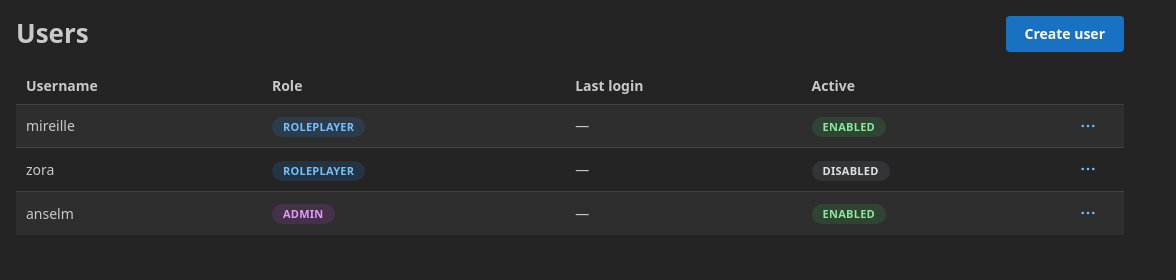
it: both actions on every row › mireille's menu offers Set Password and Change Role, neither disabled — DoD-8 (D1)
Click the submit button at (1088, 126), box top-left (1074, 112), bottom-right (1102, 140)
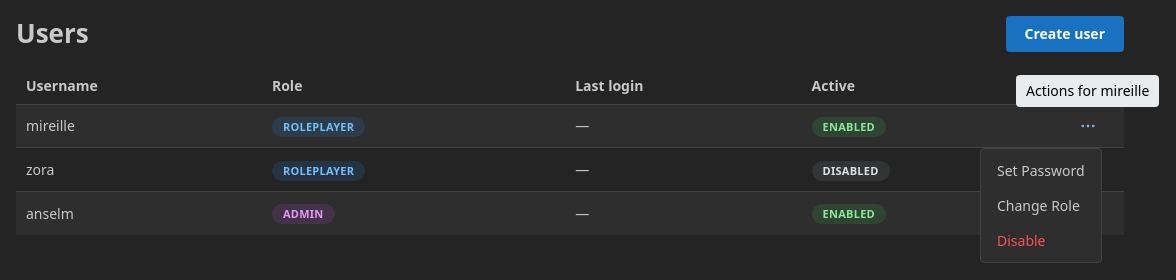
Expected: the menu item "Set Password" is enabled, top-left (985, 153), bottom-right (1097, 188)
Expected: the menu item "Change Role" is enabled, top-left (985, 188), bottom-right (1097, 223)
